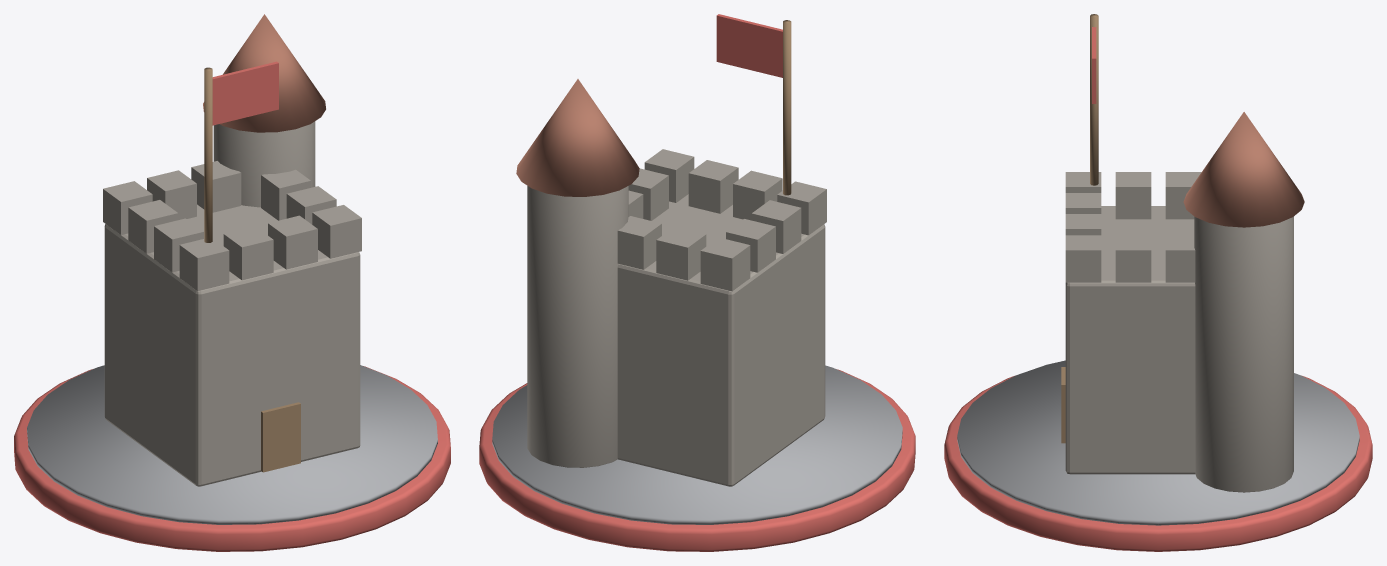
File: keep.glb
3 renders of one model, left to right at view 1: azimuth 30°, elevation 25°; view 2: azimuth 150°, elevation 25°; view 3: azimuth 270°, elevation 25°, orthographic. The views are drawn at different scales.
Parts seen in each view (by area): view 1: keep; view 2: keep; view 3: keep.
Boxes of the visible parts, x1,y1,x2,y2 form: keep: [14, 14, 450, 551]; keep: [479, 14, 915, 551]; keep: [944, 14, 1372, 551].
Size of the model in its own units: 0.6 by 0.65 by 0.6.
